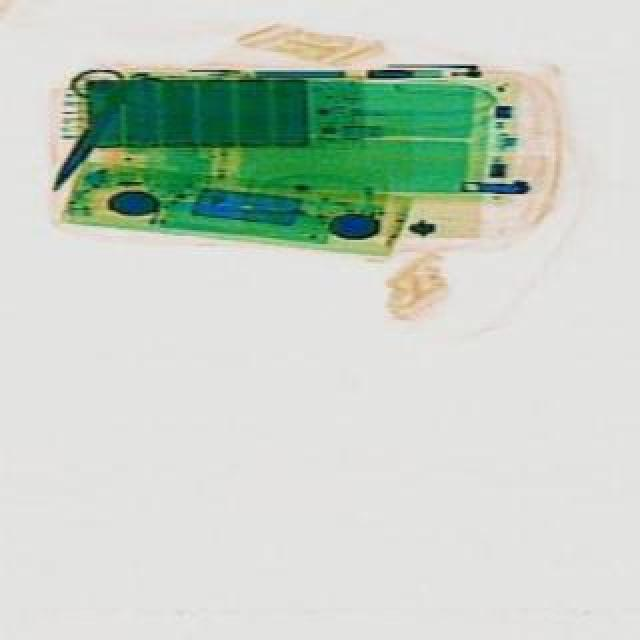pliers: (14, 48, 176, 216)
